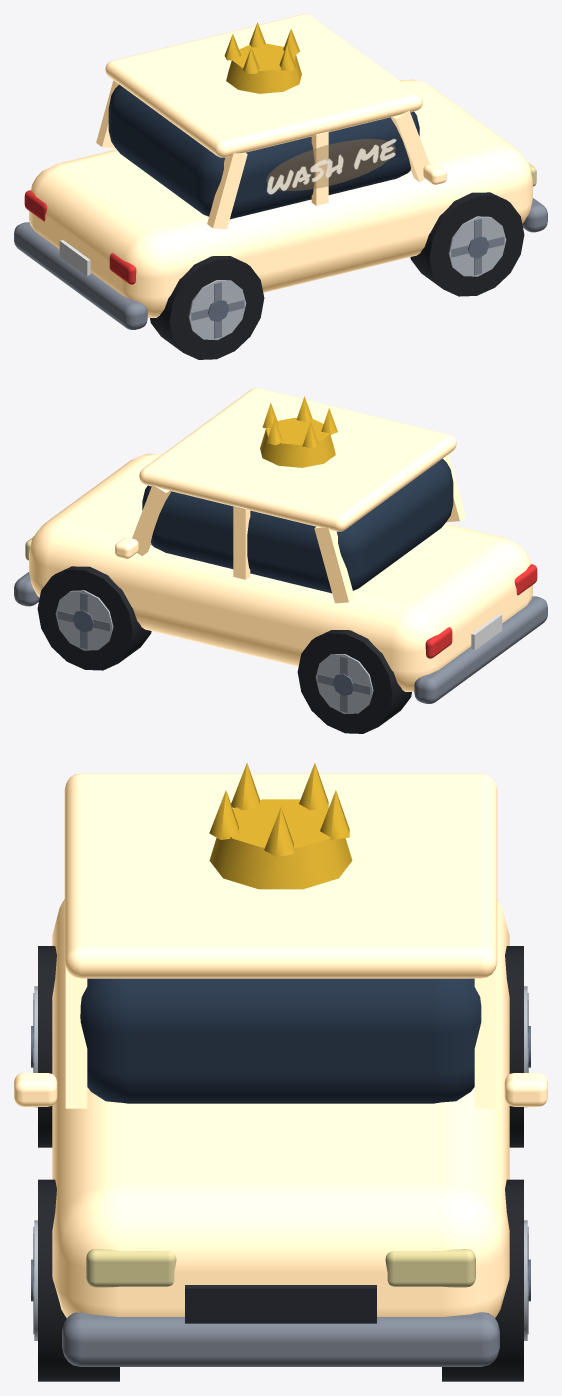
Rendered from car_golden.glb.
3 renders of one model, top to bottom at view 1: azimuth 30°, elevation 25°; view 2: azimuth 150°, elevation 25°; view 3: azimuth 270°, elevation 25°, orthographic. The views are drawn at different scales.
Parts seen in each view (by area): view 1: Paint, Trim, Wheel1, Wheel0, WashMe; view 2: Paint, Trim, Wheel3, Wheel2; view 3: Paint, Trim, Wheel0, Wheel2, Wheel1, Wheel3.
Boxes of the visible parts, x1,y1,x2,y2 form: Paint: (29, 14, 532, 317); Trim: (14, 22, 547, 329); Wheel1: (150, 256, 264, 359); Wheel0: (410, 192, 524, 296); WashMe: (266, 138, 396, 194); Paint: (29, 388, 532, 691); Trim: (14, 396, 547, 703); Wheel3: (297, 630, 411, 733); Wheel2: (37, 566, 151, 670); Paint: (14, 773, 547, 1317); Trim: (62, 763, 499, 1366); Wheel0: (31, 1179, 119, 1381); Wheel2: (442, 1179, 530, 1381); Wheel1: (31, 946, 56, 1147); Wheel3: (505, 946, 530, 1147).
Bounding box in the file's own units: 3.74 × 2.1 × 2.22.
Materials: 7 (1 with a texture image).
